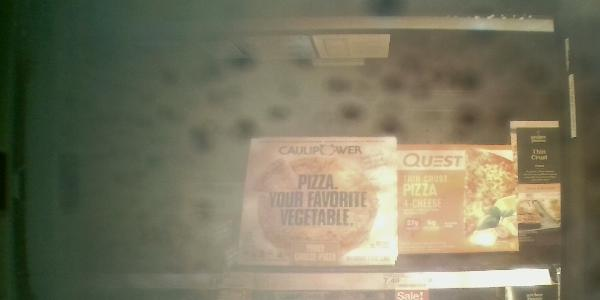pizza: (233, 137, 398, 276), (399, 144, 520, 259)
pizza1: (514, 121, 558, 243)
